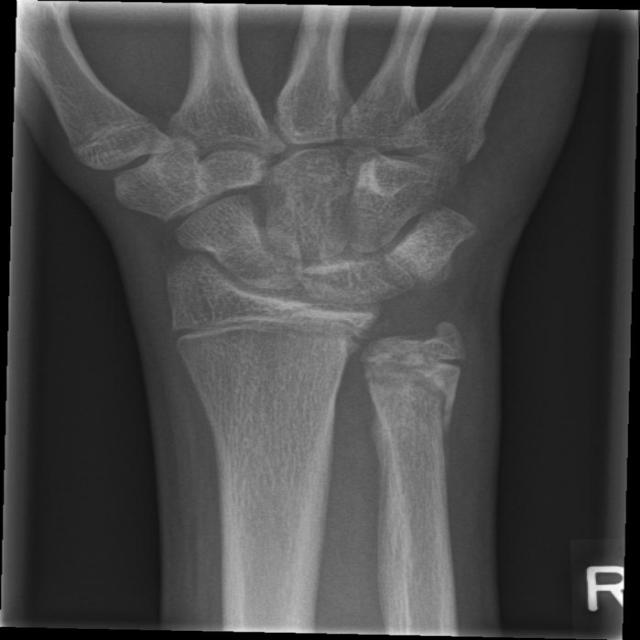fracture: (160, 304, 386, 361), (355, 339, 490, 392)
